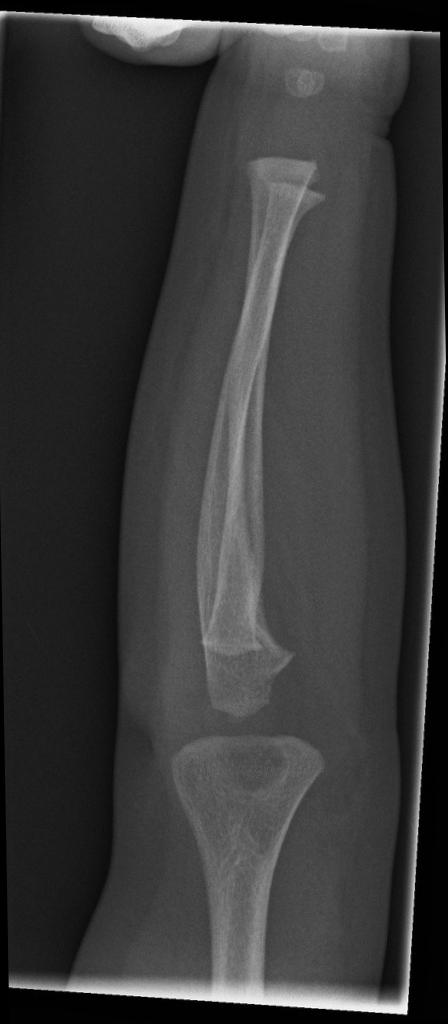fracture: (245, 618, 272, 644)
